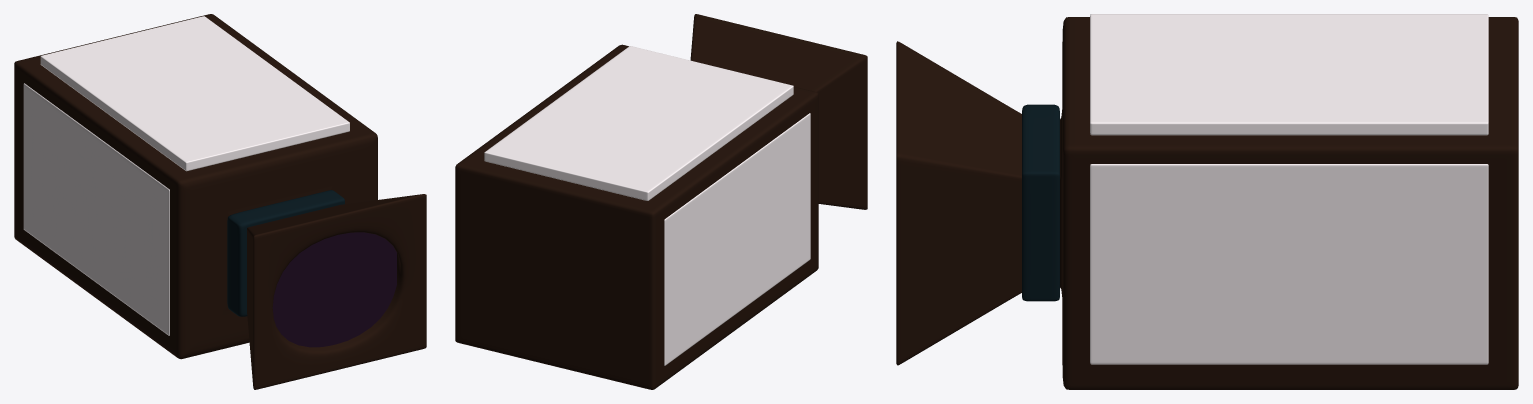
The model's file is camera.glb.
The picture shows the model from 3 angles, left to right: view 1: azimuth 30°, elevation 25°; view 2: azimuth 150°, elevation 25°; view 3: azimuth 270°, elevation 25°; orthographic projection. The views are drawn at different scales.
Visible parts, largest first — view 1: Cube, Cube.002, Cube.004, Cube.005, Cube.001; view 2: Cube, Cube.002, Cube.004; view 3: Cube.003, Cube, Cube.002, Cube.001.
Part boxes in pixels (x1,y1,x2,y2): Cube: [14, 14, 426, 389]; Cube.002: [40, 16, 349, 171]; Cube.004: [23, 83, 169, 335]; Cube.005: [272, 232, 396, 347]; Cube.001: [227, 190, 344, 316]; Cube: [455, 14, 867, 389]; Cube.002: [484, 46, 793, 200]; Cube.004: [664, 113, 810, 365]; Cube.003: [1090, 164, 1488, 364]; Cube: [896, 17, 1518, 389]; Cube.002: [1090, 14, 1488, 135]; Cube.001: [1022, 104, 1059, 301].
Bounding box in the file's own units: 1.14 × 1.01 × 2.23.
